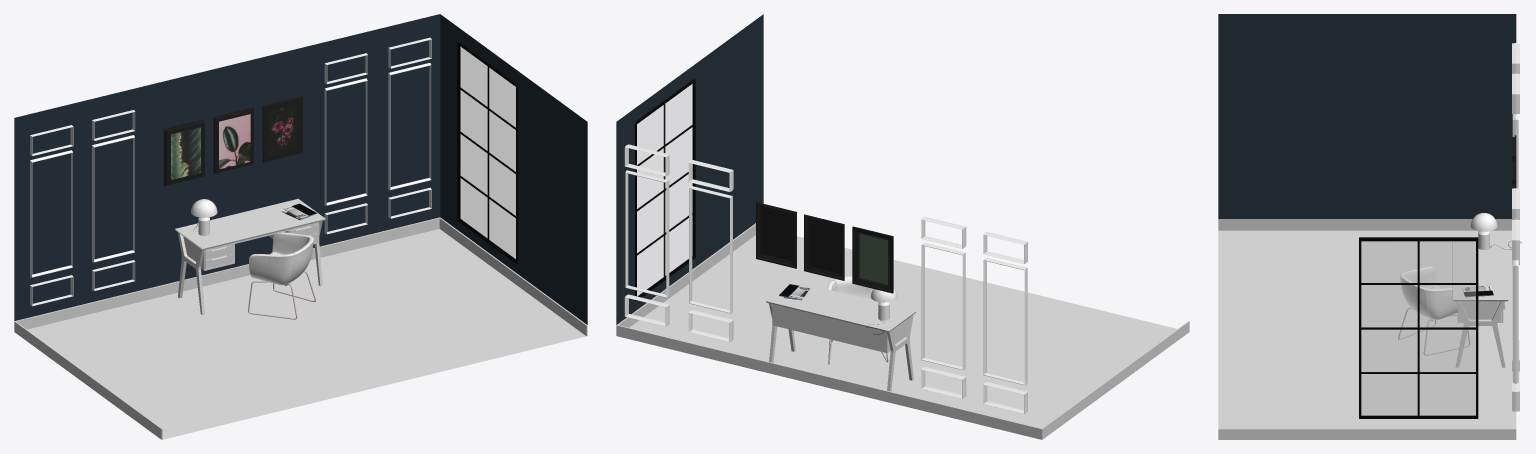
Rendered from room.glb.
3 renders of one model, left to right at view 1: azimuth 30°, elevation 25°; view 2: azimuth 150°, elevation 25°; view 3: azimuth 270°, elevation 25°, orthographic.
Visible parts, largest first — view 1: Room, Floor, 1200 Window Glass, Baseboard, Desk.001, 1200 Window, iMeshh Picture Frame1, Tulip Chair Top, iMeshh Picture Frame2, iMeshh Picture Frame1.001, Plane.006, Plane.009 (+3 smaller); view 2: Floor, Room, Baseboard, 1200 Window Glass, Desk.001, iMeshh Picture Frame1, 1200 Window, iMeshh Picture Frame2, iMeshh Picture Frame1.001, Plane.003, Plane.009, Plane (+8 smaller); view 3: Room, Floor, 1200 Window Glass, Baseboard, Desk.001, 1200 Window, Tulip Chair Top, Plane.009, Ottolo Lamp replica.001, Plane.010, Plane.004, Plane.003 (+1 smaller).
Boxes of the visible parts, left/top/right/bottom form: Room: left=14, top=14, right=587, bottom=324; Floor: left=27, top=229, right=585, bottom=439; 1200 Window Glass: left=460, top=46, right=515, bottom=258; Baseboard: left=14, top=217, right=587, bottom=439; Desk.001: left=175, top=198, right=325, bottom=314; 1200 Window: left=457, top=42, right=517, bottom=263; iMeshh Picture Frame1: left=163, top=119, right=204, bottom=185; Tulip Chair Top: left=249, top=232, right=313, bottom=285; iMeshh Picture Frame2: left=262, top=96, right=302, bottom=162; iMeshh Picture Frame1.001: left=213, top=107, right=253, bottom=173; Plane.006: left=324, top=78, right=367, bottom=205; Plane.009: left=388, top=63, right=431, bottom=190; Floor: left=629, top=235, right=1176, bottom=428; Room: left=616, top=14, right=763, bottom=324; Baseboard: left=616, top=223, right=1189, bottom=439; 1200 Window Glass: left=637, top=84, right=692, bottom=296; Desk.001: left=766, top=281, right=916, bottom=391; iMeshh Picture Frame1: left=852, top=226, right=893, bottom=293; 1200 Window: left=635, top=79, right=695, bottom=300; iMeshh Picture Frame2: left=756, top=202, right=796, bottom=268; iMeshh Picture Frame1.001: left=804, top=214, right=844, bottom=280; Plane.003: left=921, top=242, right=965, bottom=370; Plane.009: left=625, top=170, right=669, bottom=297; Plane: left=983, top=258, right=1027, bottom=385; Room: left=1218, top=14, right=1516, bottom=219; Floor: left=1218, top=230, right=1514, bottom=428; 1200 Window Glass: left=1361, top=241, right=1475, bottom=415; Baseboard: left=1218, top=219, right=1516, bottom=439; Desk.001: left=1452, top=239, right=1508, bottom=367; 1200 Window: left=1359, top=237, right=1478, bottom=418; Tulip Chair Top: left=1400, top=266, right=1457, bottom=319; Plane.009: left=1512, top=260, right=1518, bottom=383; Ottolo Lamp replica.001: left=1470, top=213, right=1497, bottom=231; Plane.010: left=1512, top=219, right=1519, bottom=260; Plane.004: left=1512, top=73, right=1519, bottom=114; Plane.003: left=1512, top=114, right=1518, bottom=188.
Bounding box in the file's own units: 5.02 × 2.4 × 3.06.
Materials: 25 (6 with a texture image).
